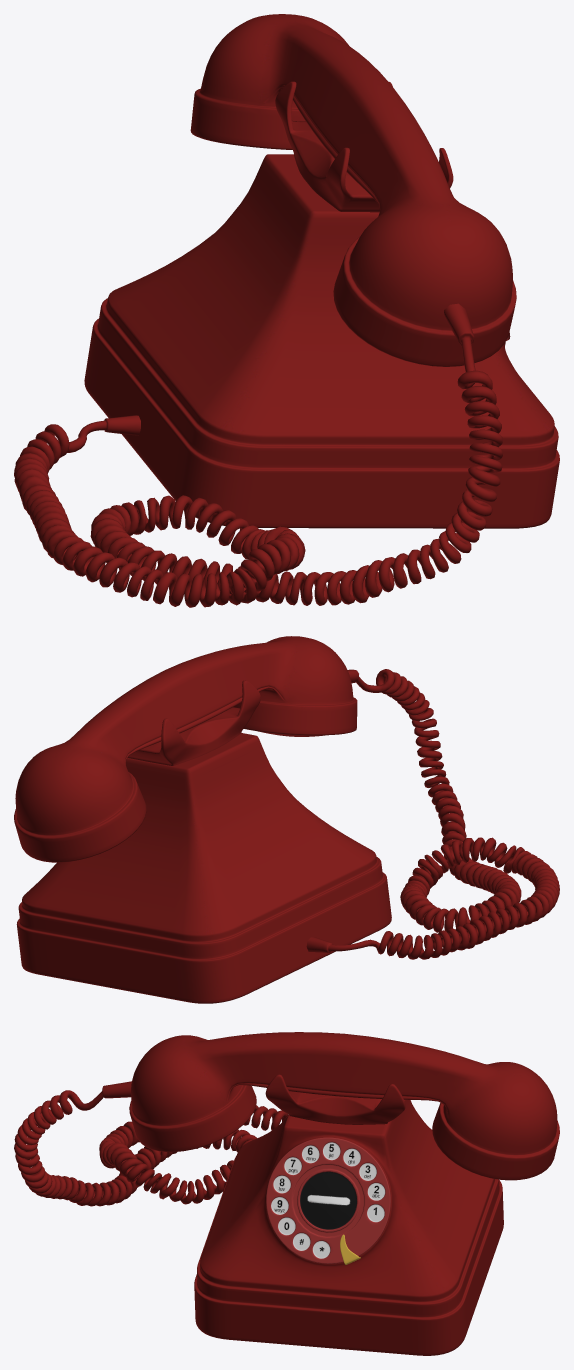
3 views of the same model, one above another, from view 1: azimuth 30°, elevation 25°; view 2: azimuth 150°, elevation 25°; view 3: azimuth 270°, elevation 25° (orthographic). The views are drawn at different scales.
Visible parts, largest first — view 1: 14024_Rotary_Phone_on_Base_v1_l2; view 2: 14024_Rotary_Phone_on_Base_v1_l2; view 3: 14024_Rotary_Phone_on_Base_v1_l2.
Boxes of the visible parts, box(x1,y1,x2,y2) form: 14024_Rotary_Phone_on_Base_v1_l2: box(14, 14, 559, 607); 14024_Rotary_Phone_on_Base_v1_l2: box(14, 636, 559, 1003); 14024_Rotary_Phone_on_Base_v1_l2: box(14, 1032, 559, 1355).
Size of the model in its own units: 33.6 by 22.26 by 40.33.
Materials: 1 (1 with a texture image).
